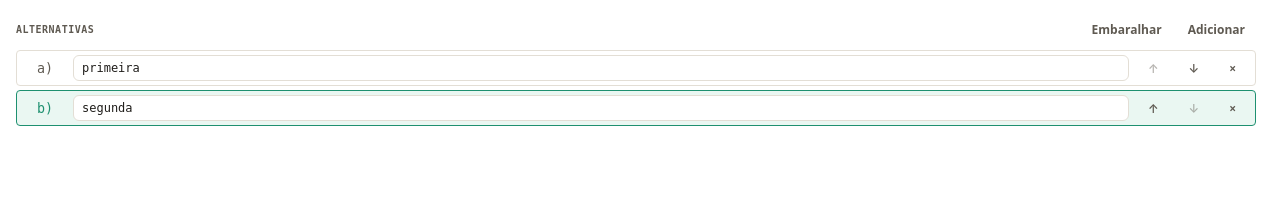
depois de mudar, a lista volta do servidor › mutação recusada mostra o motivo e **não** relê
Expected: the field showing "primeira" is shown, [73,55,1129,81]
Click the radio button labelled "a)" at coordinates (45, 68), box [25,60,65,76]
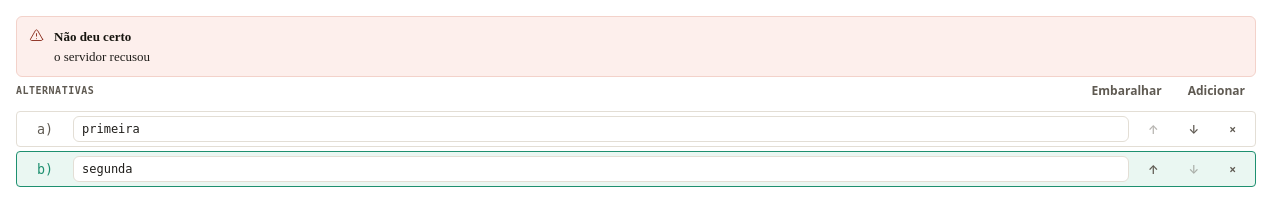
Now the text "o servidor recusou" is shown, box [54,48,150,64]
